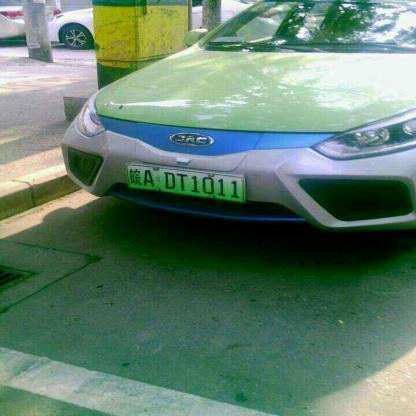lp: (127, 164, 246, 201)
